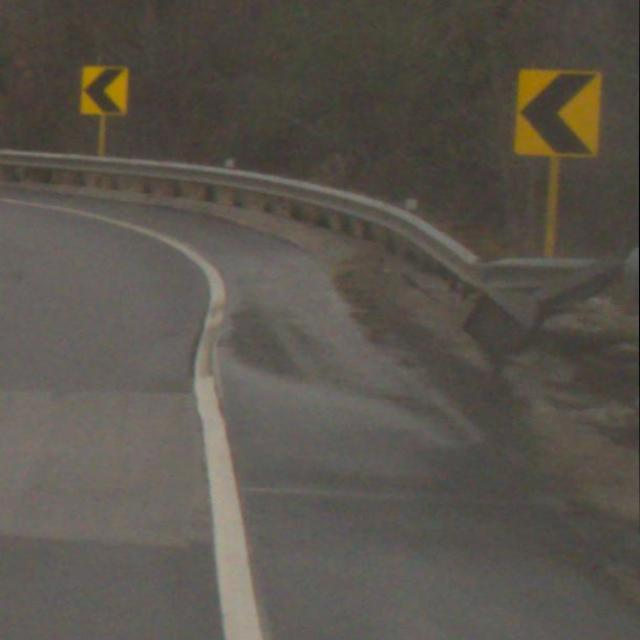Guard rail: (0, 145, 610, 341)
